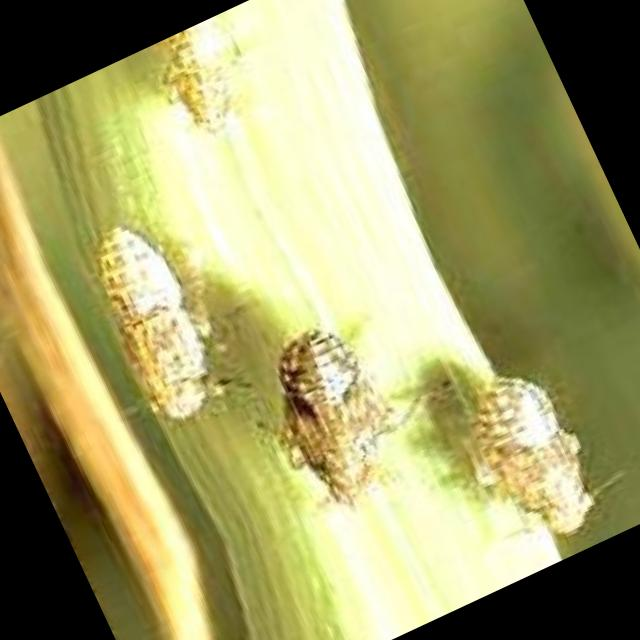brown-planthopper: (67, 202, 246, 438), (250, 311, 414, 510), (454, 354, 617, 552), (151, 12, 267, 139)
